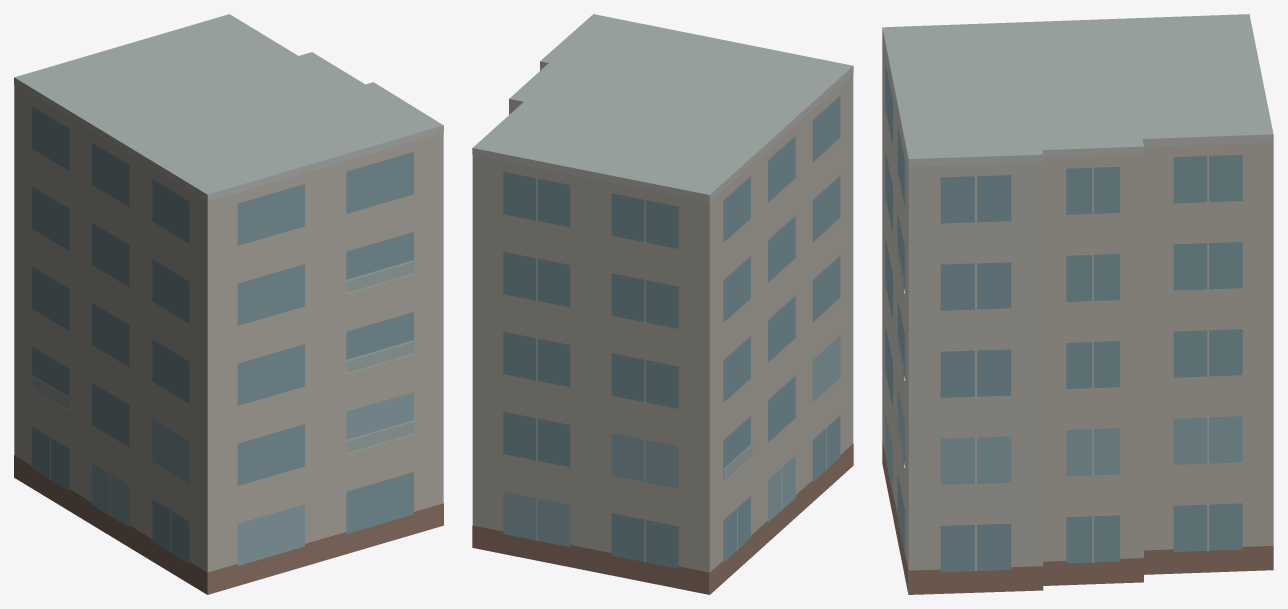
The model's file is survey-upis-32705873.glb.
3 renders of one model, left to right at view 1: azimuth 30°, elevation 25°; view 2: azimuth 150°, elevation 25°; view 3: azimuth 270°, elevation 25°, orthographic. The views are drawn at different scales.
Parts seen in each view (by area): view 1: survey-upis-32705873.tmp; view 2: survey-upis-32705873.tmp; view 3: survey-upis-32705873.tmp.
Boxes of the visible parts, x1=… form: survey-upis-32705873.tmp: x1=14, y1=14, x2=443, y2=594; survey-upis-32705873.tmp: x1=472, y1=14, x2=853, y2=594; survey-upis-32705873.tmp: x1=882, y1=14, x2=1273, y2=594.
Bounding box in the file's own units: 9.72 × 13.6 × 11.08.
